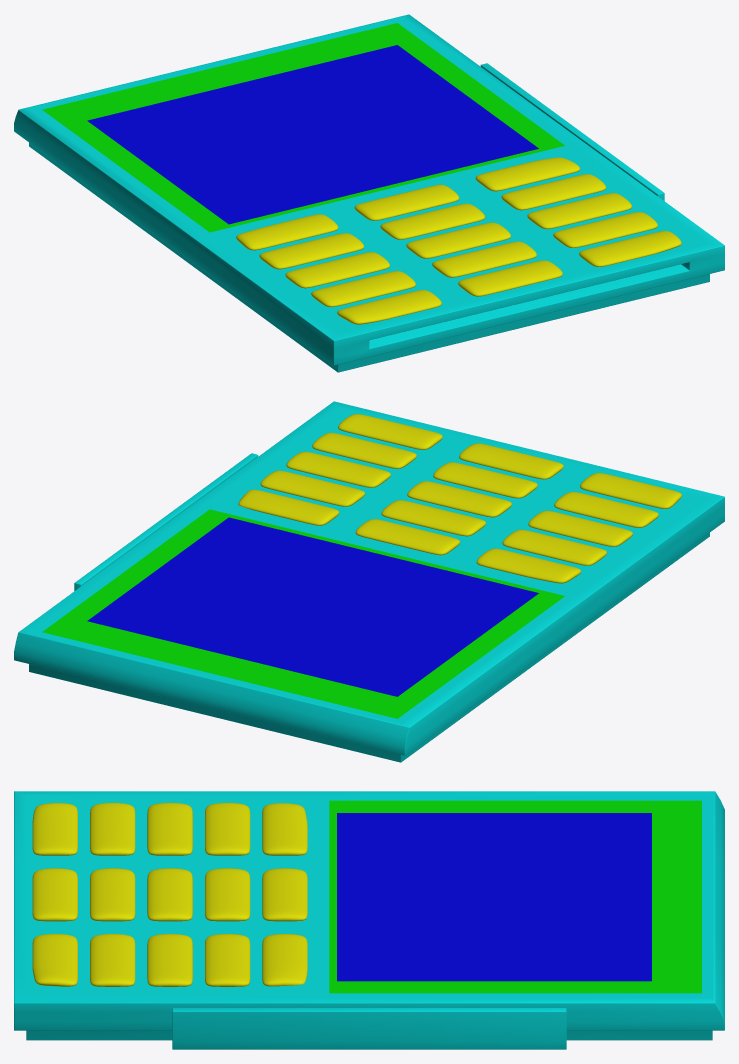
The model's file is CardReader.fbx.
The picture shows the model from 3 angles, top to bottom: view 1: azimuth 30°, elevation 25°; view 2: azimuth 150°, elevation 25°; view 3: azimuth 270°, elevation 25°; orthographic projection. The views are drawn at different scales.
Visible parts, largest first — view 1: Cube.002; view 2: Cube.002; view 3: Cube.002.
Boxes of the visible parts, x1,y1,x2,y2 form: Cube.002: (14, 14, 724, 372); Cube.002: (14, 401, 724, 762); Cube.002: (14, 791, 724, 1049).
Bounding box in the file's own units: 374 × 515 × 39.06.
